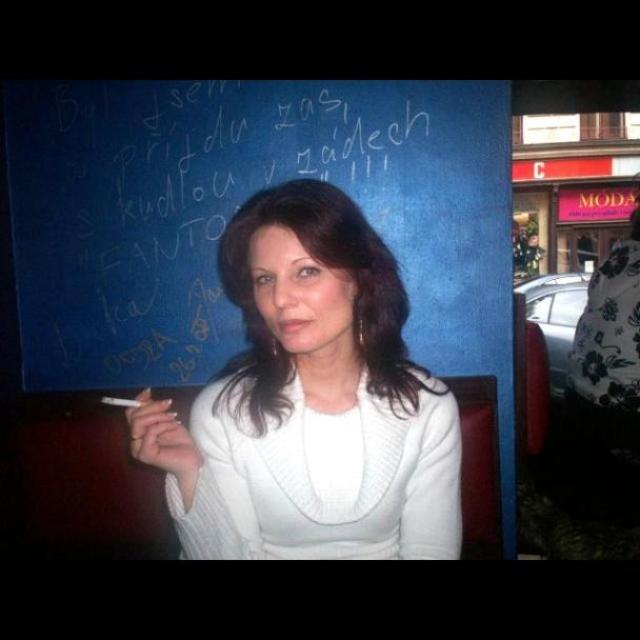rokok: (100, 388, 164, 412)
